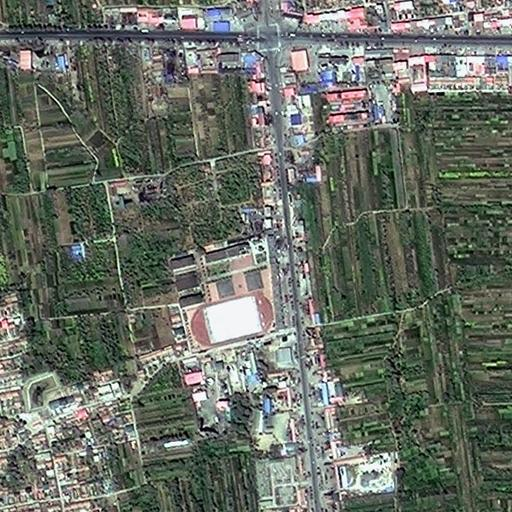school: (167, 232, 280, 356)
